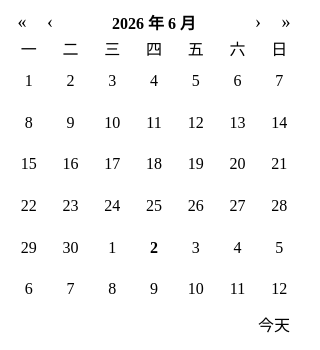
Test case: Calendar › 支持切换月份和年份
Step 1. Click the button named "下一月" → (258, 22), box x1=244 y1=8 x2=272 y2=36
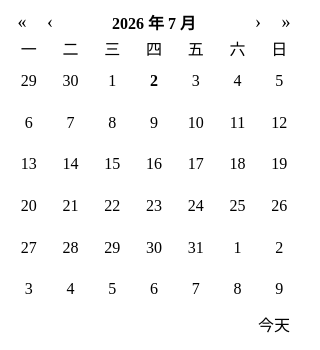
Check: the text with class "su-calendar__title" reads "2026 年 7 月", box x1=112 y1=15 x2=196 y2=32
Step 2. Click the button named "上一年" → (22, 22), box x1=8 y1=8 x2=36 y2=36
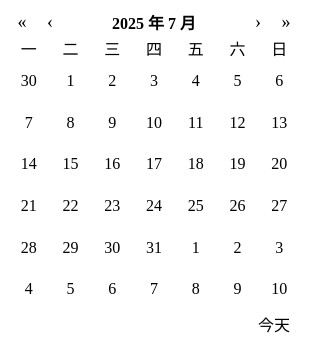
Check: the text with class "su-calendar__title" reads "2025 年 7 月", box x1=112 y1=15 x2=196 y2=32
